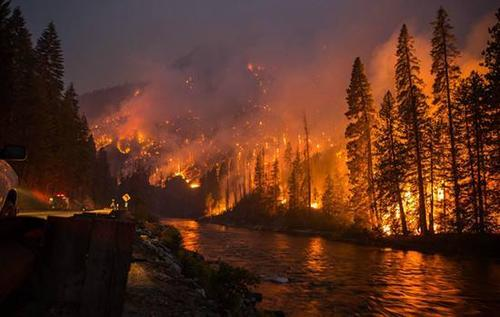fire: (134, 110, 372, 222), (380, 180, 451, 237)
smoke: (115, 17, 464, 108)
